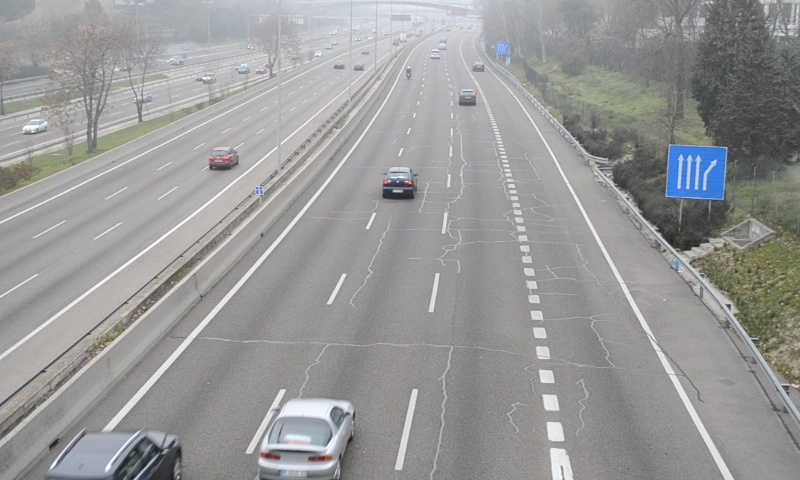car: (256, 400, 356, 480), (382, 167, 418, 200), (459, 88, 476, 106)
motorcycle: (405, 65, 412, 80)
